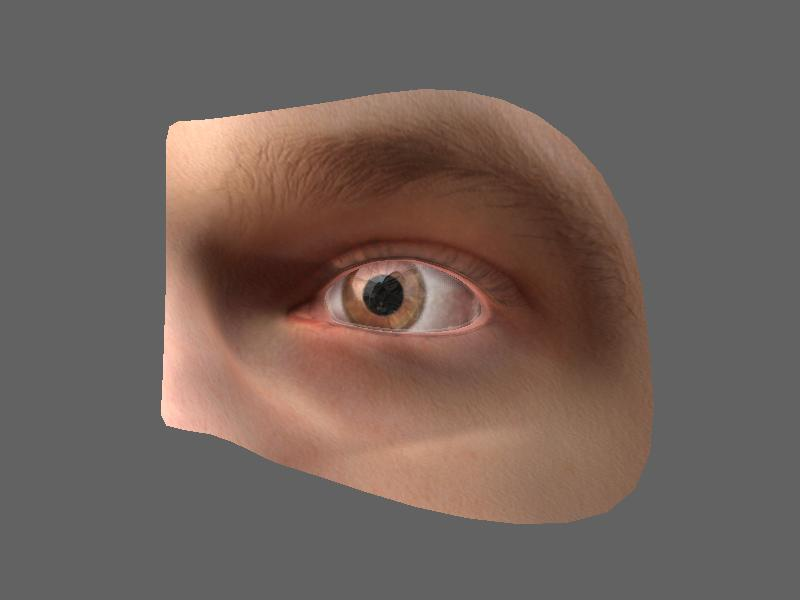iris: (341, 258, 431, 332)
